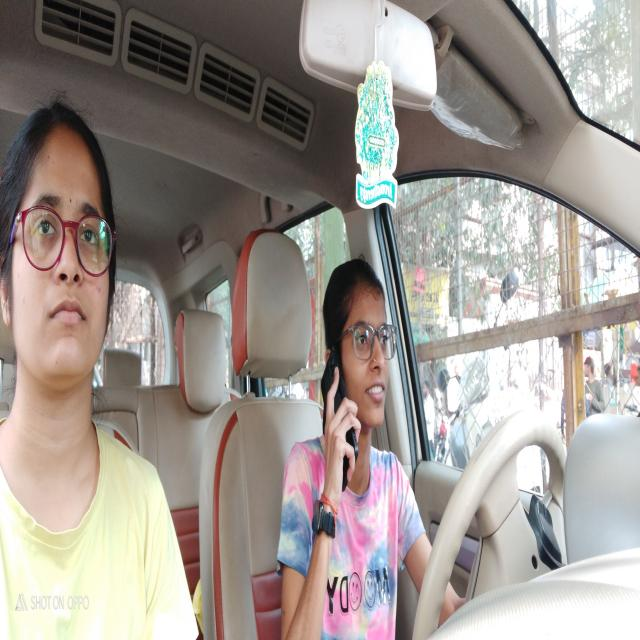mobile: (304, 347, 362, 467)
person: (2, 83, 128, 462), (319, 249, 400, 481)
